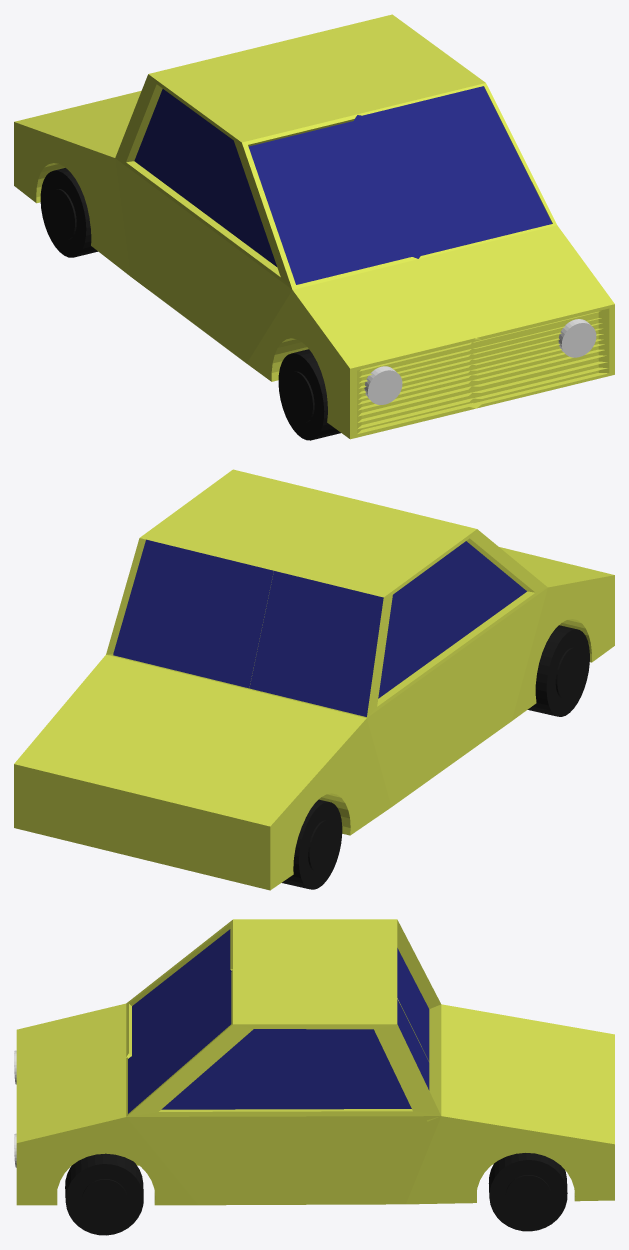
The model's file is TrainingCarIA.fbx.
3 views of the same model, one above another, from view 1: azimuth 30°, elevation 25°; view 2: azimuth 150°, elevation 25°; view 3: azimuth 270°, elevation 25° (orthographic). The views are drawn at different scales.
Visible parts, largest first — view 1: Body, RFrontWheel, RBackWheel, RLight, LLight; view 2: Body, RFrontWheel, RBackWheel; view 3: Body, LFrontWheel, LBackWheel.
Boxes of the visible parts, box(x1,y1,x2,y2) form: Body: box(14, 14, 614, 439); RFrontWheel: box(278, 349, 340, 440); RBackWheel: box(40, 168, 97, 257); RLight: box(364, 366, 402, 404); LLight: box(558, 319, 596, 357); Body: box(14, 469, 614, 890); RFrontWheel: box(527, 625, 589, 716); RBackWheel: box(282, 799, 342, 889); Body: box(16, 919, 614, 1205); LFrontWheel: box(65, 1153, 143, 1235); LBackWheel: box(488, 1153, 567, 1231).
Bounding box in the file's own units: 223 × 185 × 485.
